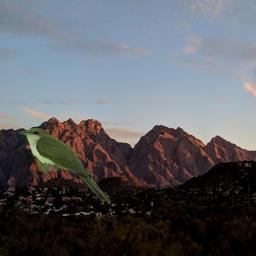Cuckoo: (19, 128, 111, 205)
